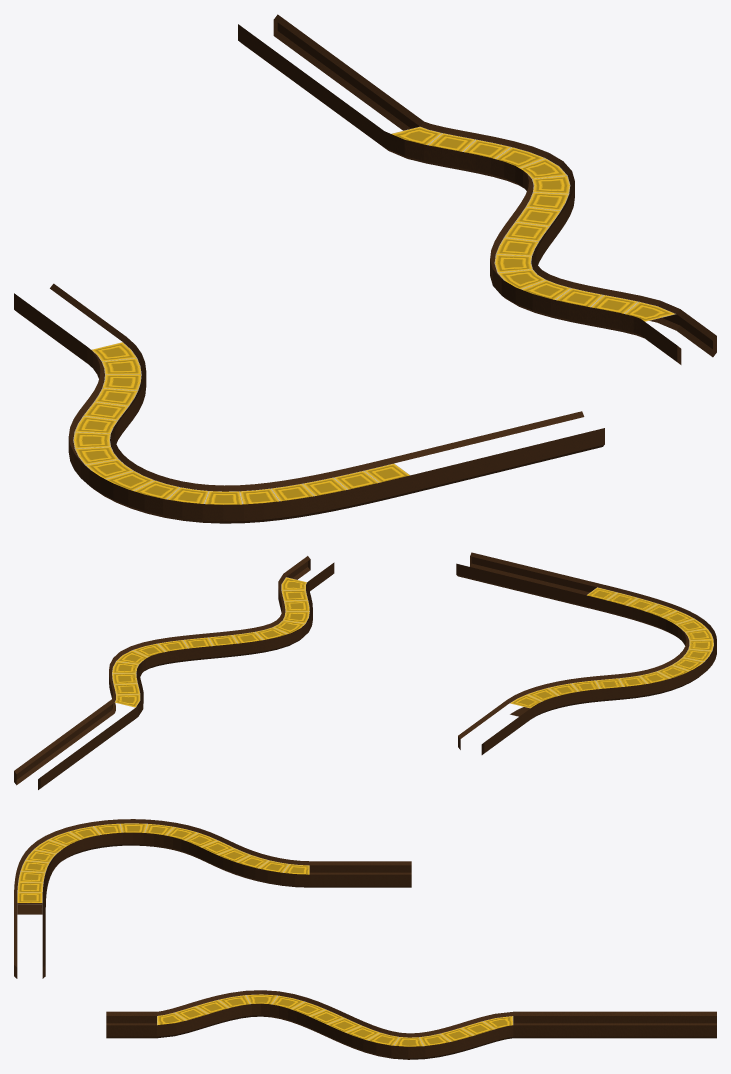
The model's file is SkytreeConstructionCurves.obj.
3 views of the same model, one above another, from view 1: azimuth 30°, elevation 25°; view 2: azimuth 150°, elevation 25°; view 3: azimuth 270°, elevation 25° (orthographic). The views are drawn at different scales.
Parts seen in each view (by area): view 1: Cube.002_Cube.003, Cube_Cube.001; view 2: Cube.002_Cube.003, Cube_Cube.001; view 3: Cube_Cube.001, Cube.002_Cube.003.
Boxes of the visible parts, x1,y1,x2,y2 form: Cube.002_Cube.003: [14, 283, 604, 523]; Cube_Cube.001: [238, 14, 716, 364]; Cube.002_Cube.003: [456, 552, 716, 754]; Cube_Cube.001: [14, 556, 334, 789]; Cube_Cube.001: [106, 990, 716, 1059]; Cube.002_Cube.003: [14, 819, 411, 978].
Bounding box in the file's own units: 21.17 × 0.625 × 27.62.
